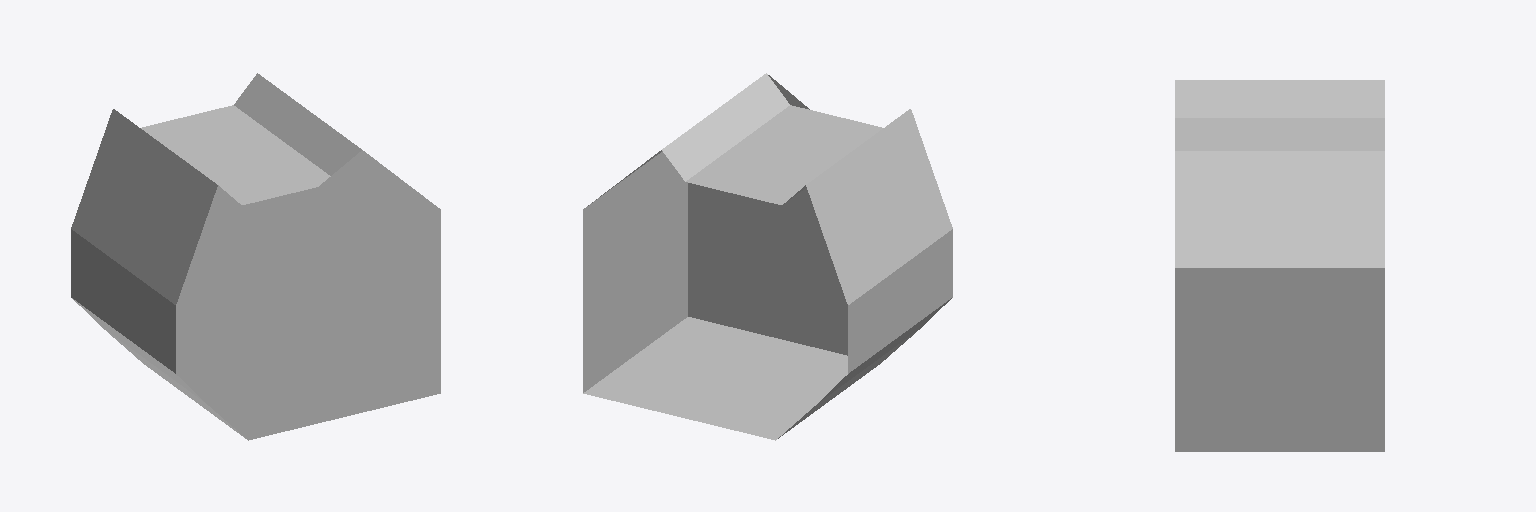
The model's file is building-6.obj.
3 renders of one model, left to right at view 1: azimuth 30°, elevation 25°; view 2: azimuth 150°, elevation 25°; view 3: azimuth 270°, elevation 25°, orthographic.
Bounding box in the file's own units: 13.19 × 12.5 × 9.06.